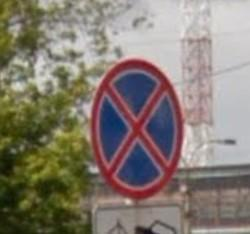No Parking: (92, 58, 185, 200)
